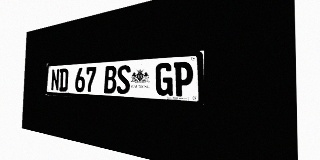6: (75, 67, 85, 92)
7: (85, 67, 96, 93)
B: (104, 66, 117, 94)
D: (59, 68, 68, 92)
G: (155, 62, 173, 96)
N: (51, 69, 59, 91)
P: (173, 61, 193, 97)
S: (116, 65, 131, 94)
